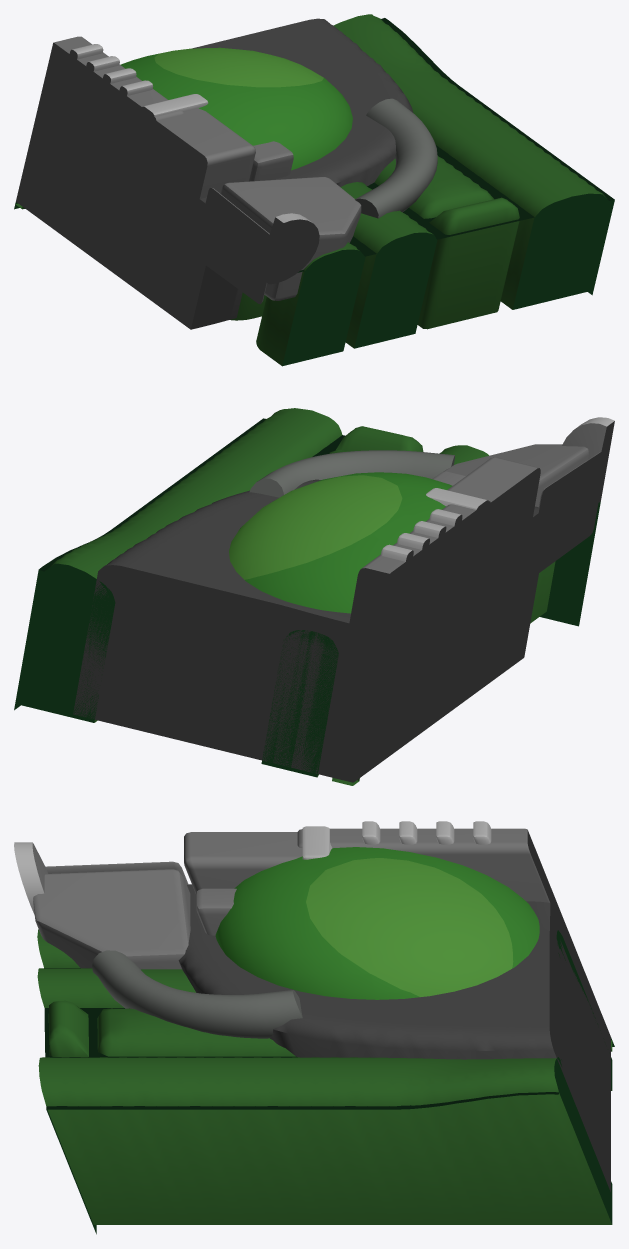
Rendered from green_shell_163.glb.
3 renders of one model, top to bottom at view 1: azimuth 30°, elevation 25°; view 2: azimuth 150°, elevation 25°; view 3: azimuth 270°, elevation 25°, orthographic. The views are drawn at different scales.
Parts seen in each view (by area): view 1: green_shell_163; view 2: green_shell_163; view 3: green_shell_163.
Part boxes in pixels (<box>): green_shell_163: <box>14,14,614,366</box>; green_shell_163: <box>14,408,614,785</box>; green_shell_163: <box>14,821,614,1234</box>.
Size of the model in its own units: 24 by 13.45 by 32.46.
